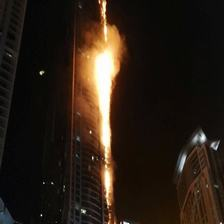fire: (86, 5, 126, 223)
